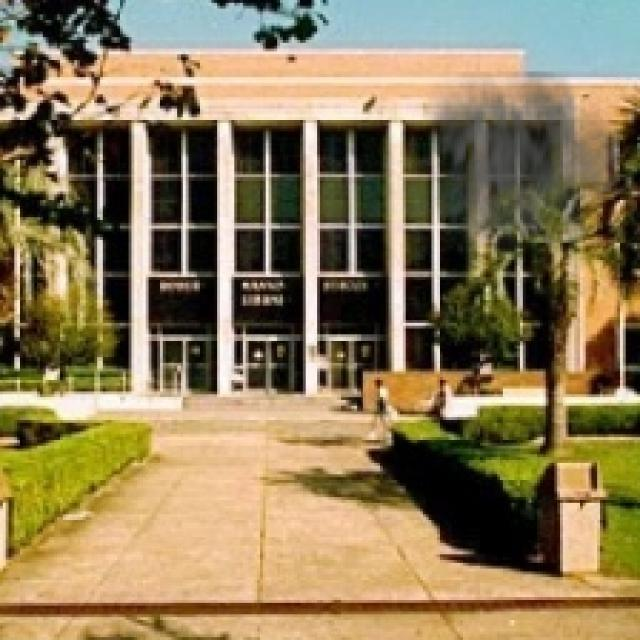Smoke: (420, 72, 620, 274)
